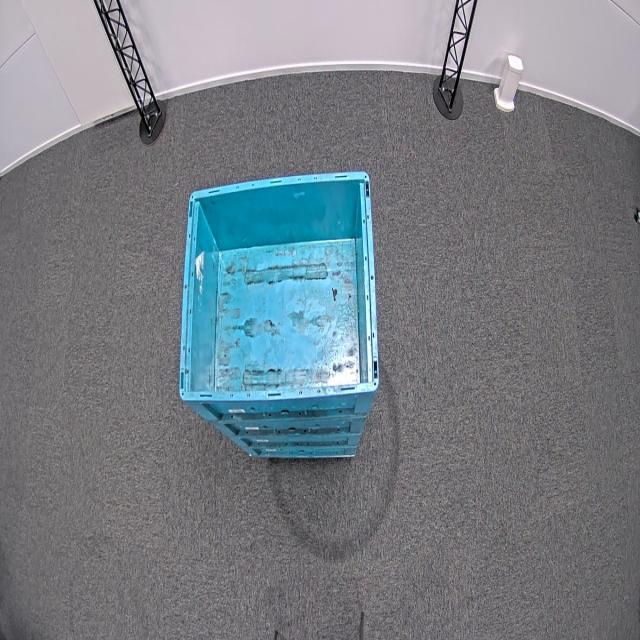RollB4: (177, 167, 380, 404)
